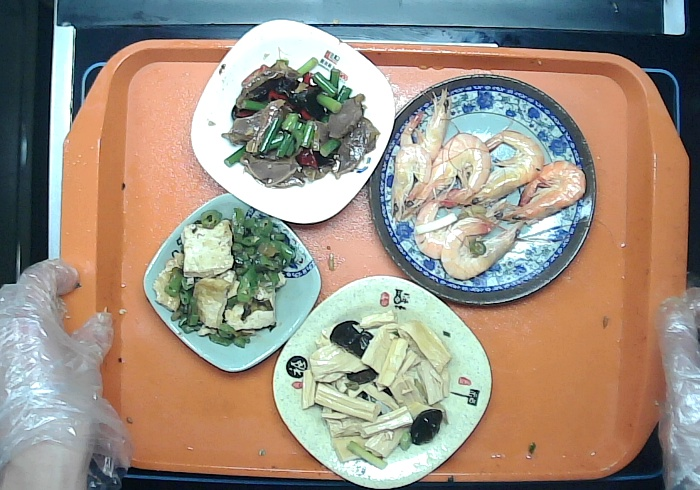NLDX-Bai_Se_Xiao_Fang_Die: (188, 18, 397, 229)
NLDX-Fu_Zi_Fang_Die: (270, 273, 492, 490)
NLDX-Qing_Hua_Xiao_Fang_Die: (139, 191, 321, 373)
NLDX-Qing_Hua_Yuan_Die: (369, 73, 592, 308)
